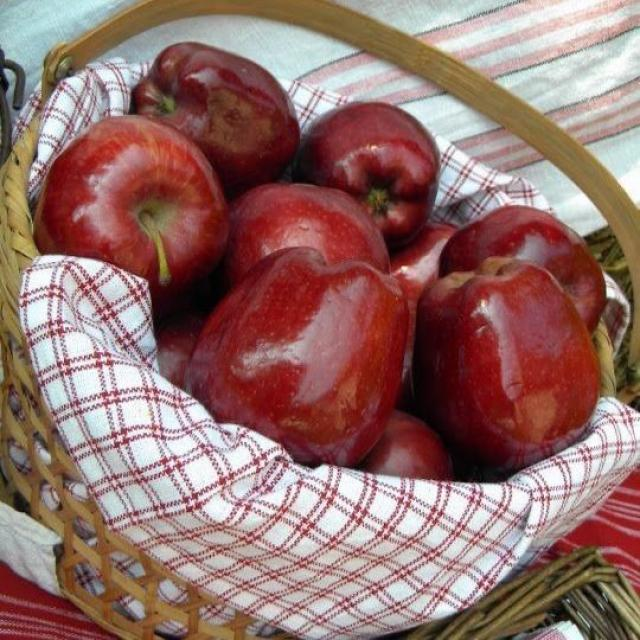apple: (187, 248, 407, 466), (414, 258, 599, 470), (35, 115, 228, 312), (133, 42, 299, 199), (294, 102, 439, 247), (441, 206, 605, 333), (224, 183, 389, 285), (390, 221, 456, 407), (360, 411, 453, 481), (156, 307, 207, 388)
